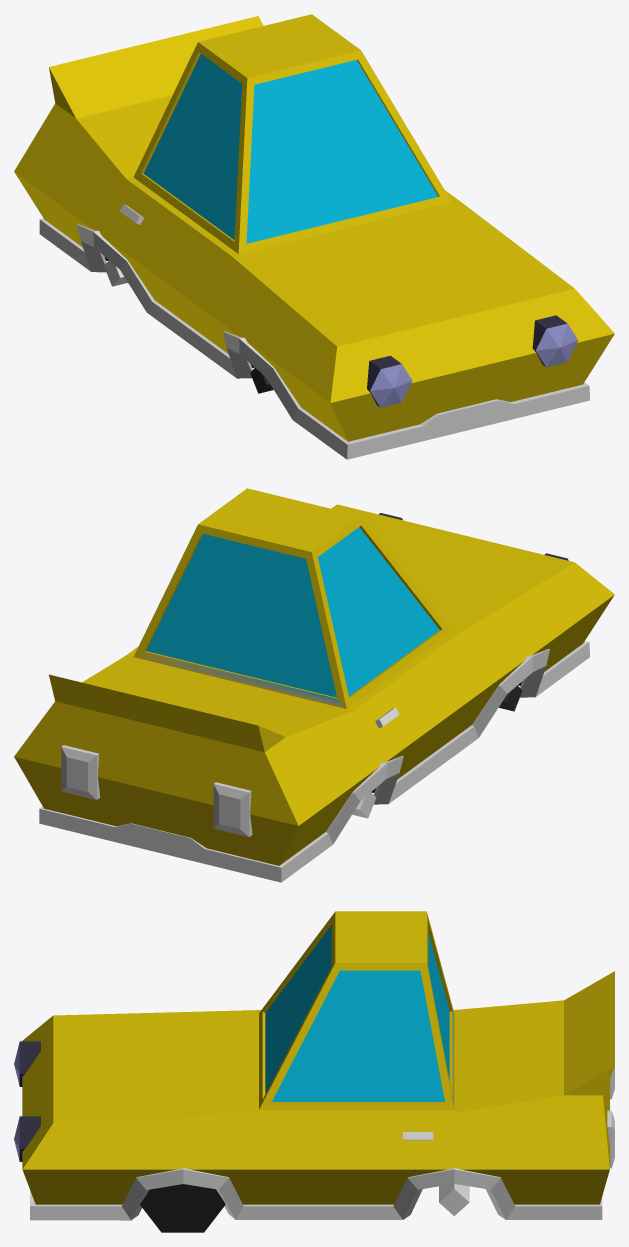
The model's file is Car.fbx.
The picture shows the model from 3 angles, top to bottom: view 1: azimuth 30°, elevation 25°; view 2: azimuth 150°, elevation 25°; view 3: azimuth 270°, elevation 25°; orthographic projection. The views are drawn at different scales.
Visible parts, largest first — view 1: Body, Bumper, Front_lights; view 2: Body, Bumper, Back_lights; view 3: Body, Bumper, Front_wheels, Front_lights, Back_wheels, Back_lights.
Boxes of the visible parts, box(x1,y1,x2,y2) form: Body: box(14, 14, 614, 441); Bumper: box(39, 218, 589, 459); Front_lights: box(367, 315, 578, 407); Body: box(14, 488, 614, 865); Bumper: box(39, 641, 589, 882); Back_lights: box(61, 745, 252, 836); Body: box(22, 911, 614, 1204); Bumper: box(30, 1167, 602, 1220); Front_wheels: box(140, 1184, 225, 1232); Front_lights: box(14, 1041, 40, 1161); Back_wheels: box(439, 1184, 469, 1216); Back_lights: box(607, 1066, 614, 1168).
Size of the model in its own units: 206 by 171 by 394.
